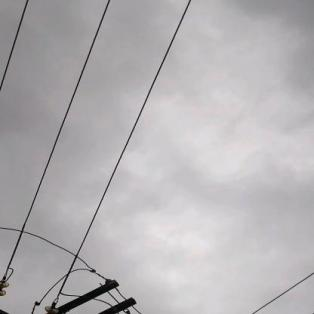Poste: (17, 308, 92, 314)
